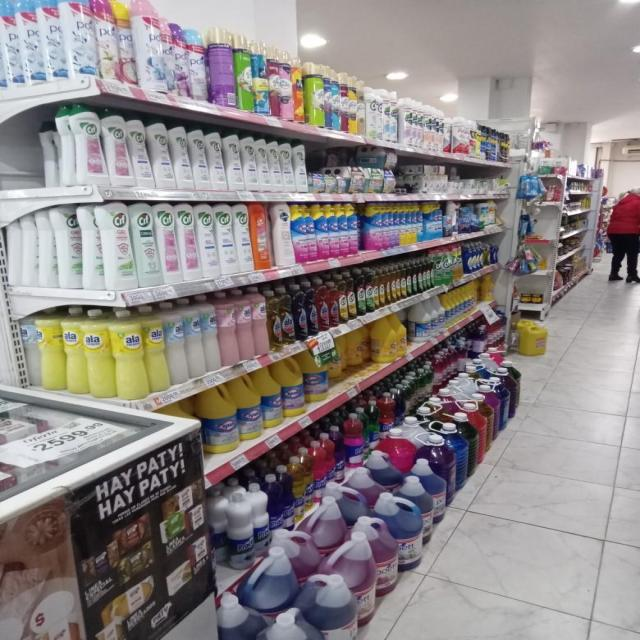ala_conc_amarillo: (268, 286, 282, 351), (280, 285, 294, 346)
ala_conc_azul: (294, 282, 307, 340), (307, 281, 317, 336)
ala_conc_rojo: (318, 281, 329, 331), (330, 279, 340, 327)
ala_crem_amarillo: (114, 308, 144, 400), (85, 308, 112, 399), (144, 304, 167, 394), (40, 308, 64, 392), (64, 307, 85, 395)
ala_crem_blanco: (167, 300, 187, 386), (187, 296, 204, 379), (22, 311, 40, 389), (204, 294, 219, 373)
ala_crem_rosado: (218, 290, 236, 367), (237, 288, 253, 362)
ala_ultra_rosa: (253, 286, 268, 356)
cif_conc_bot_amarilla: (340, 273, 348, 324), (348, 272, 356, 320), (390, 265, 398, 303), (377, 268, 384, 310), (386, 266, 393, 306)
cif_conc_botella_verde: (356, 270, 366, 316), (366, 269, 376, 313), (412, 263, 419, 295)
